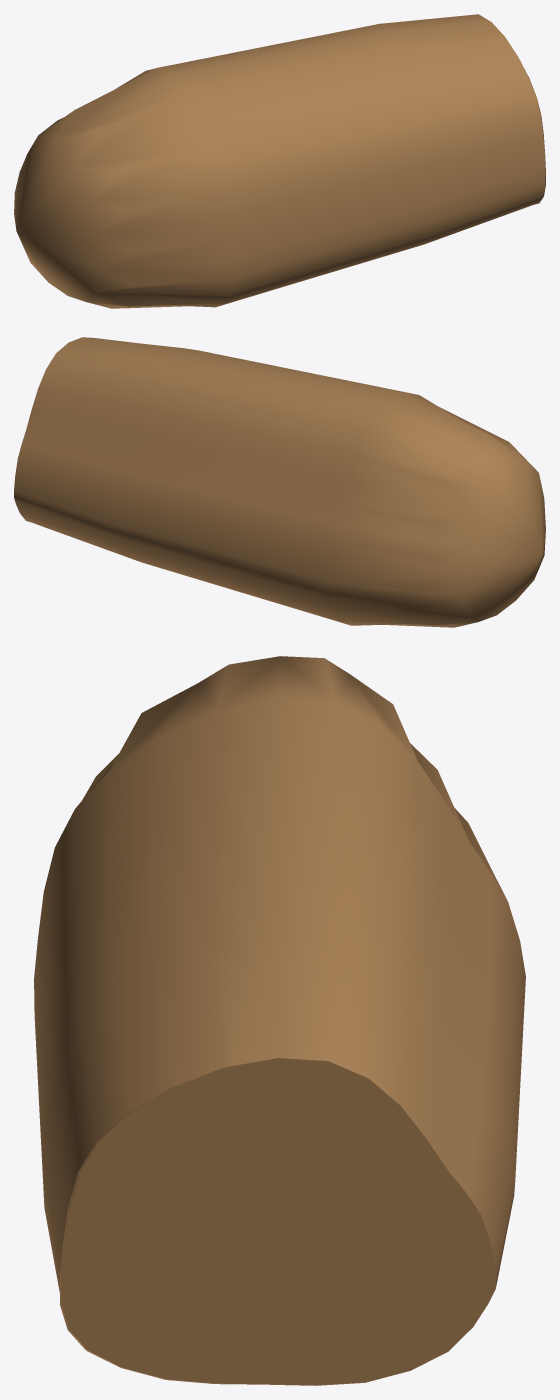
File: Frinchfry_RLowerArm.fbx
3 views of the same model, one above another, from view 1: azimuth 30°, elevation 25°; view 2: azimuth 150°, elevation 25°; view 3: azimuth 270°, elevation 25° (orthographic). The views are drawn at different scales.
Parts seen in each view (by area): view 1: LArmLower2; view 2: LArmLower2; view 3: LArmLower2.
Part boxes in pixels (left/top/right/bottom): LArmLower2: left=14, top=14, right=545, bottom=308; LArmLower2: left=14, top=337, right=545, bottom=627; LArmLower2: left=34, top=656, right=525, bottom=1385.
Bounding box in the file's own units: 41.71 × 17.71 × 18.77.
